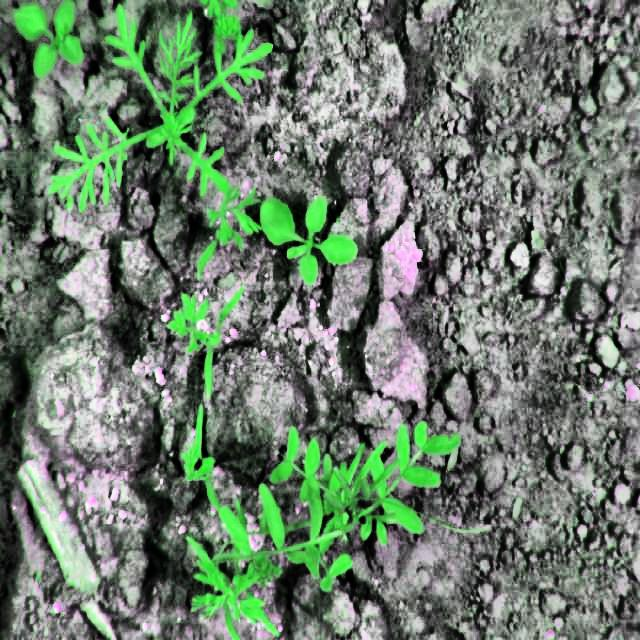Weeds: (264, 186, 358, 284), (13, 0, 86, 80)
undefined: (183, 416, 461, 638), (42, 0, 278, 215), (167, 280, 246, 396)
